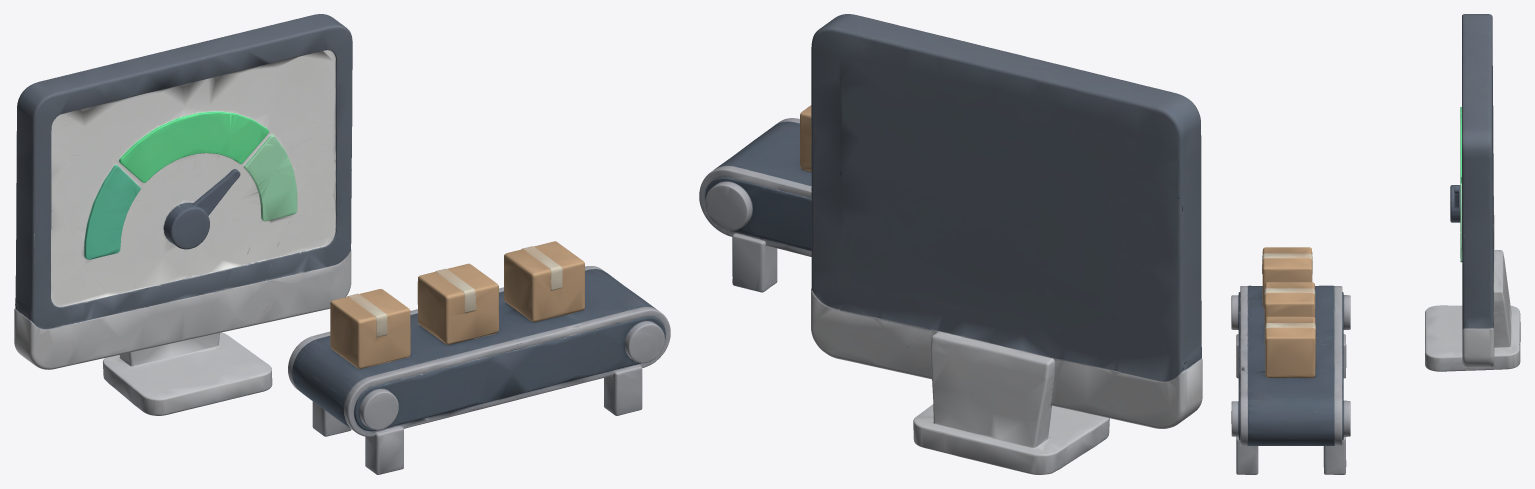
File: worximity-draco-defaut.glb
3 views of the same model, side by side, from view 1: azimuth 30°, elevation 25°; view 2: azimuth 150°, elevation 25°; view 3: azimuth 270°, elevation 25° (orthographic). The views are drawn at different scales.
Visible parts, largest first — view 1: geometry_0; view 2: geometry_0; view 3: geometry_0.
Part boxes in pixels (bbox=[...]): geometry_0: bbox=[14, 14, 670, 474]; geometry_0: bbox=[699, 14, 1202, 474]; geometry_0: bbox=[1231, 14, 1520, 474].
Size of the model in its own units: 1.9 by 1.18 by 1.12.
1 material, 1 textured.
